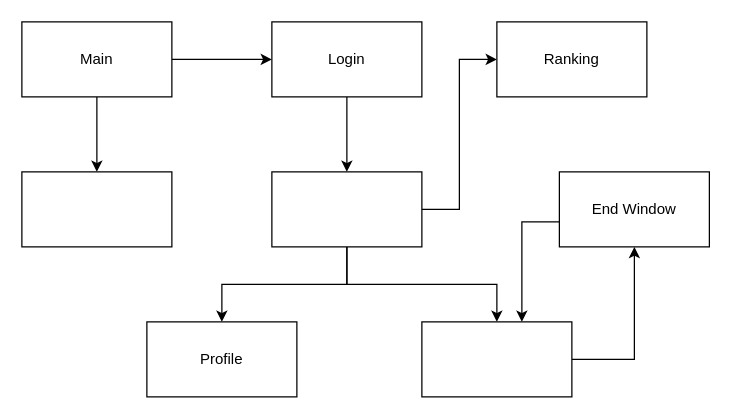
Image size: 731x419. Some labels were removed from this diagram. The shapes that lost their labels are listed below. From the top down, each one's centre as x and y in pixels, then its label:
At (96,209): "Signup".
At (346,209): "Menu".
At (496,359): "Board".
